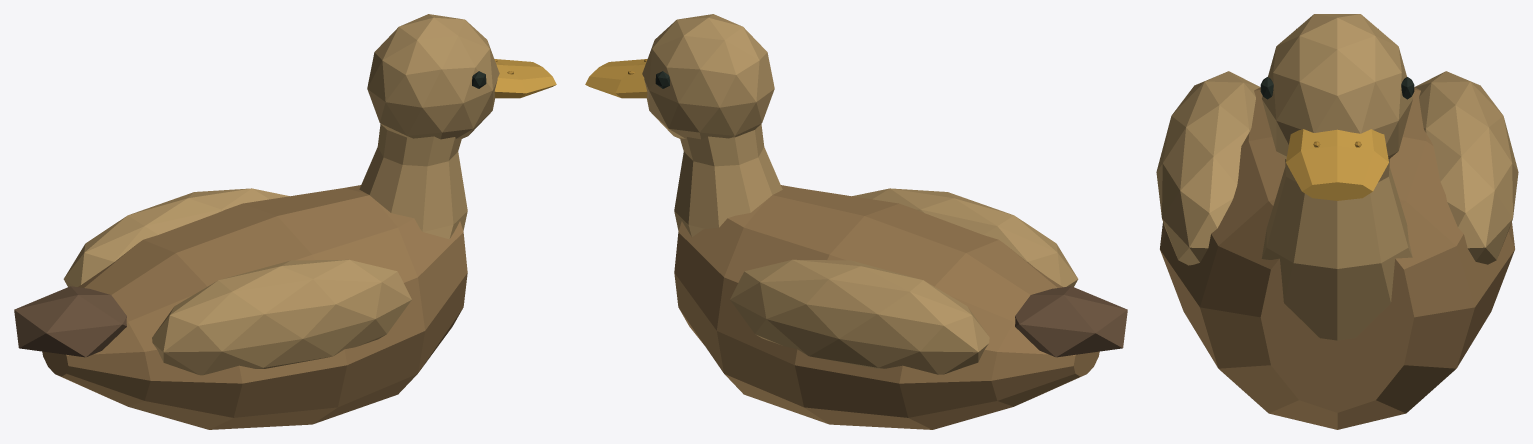
Rendered from lwf_duck_brown_v1.glb.
The picture shows the model from 3 angles, left to right: view 1: azimuth 30°, elevation 25°; view 2: azimuth 150°, elevation 25°; view 3: azimuth 270°, elevation 25°; orthographic projection. The views are drawn at different scales.
Parts seen in each view (by area): view 1: DuckBrown; view 2: DuckBrown; view 3: DuckBrown.
Part boxes in pixels (x1,y1,x2,y2): DuckBrown: [14, 14, 556, 429]; DuckBrown: [585, 14, 1127, 429]; DuckBrown: [1156, 14, 1518, 429].
Size of the model in its own units: 0.671 by 0.436 by 0.3158.
1 material, 1 textured.
